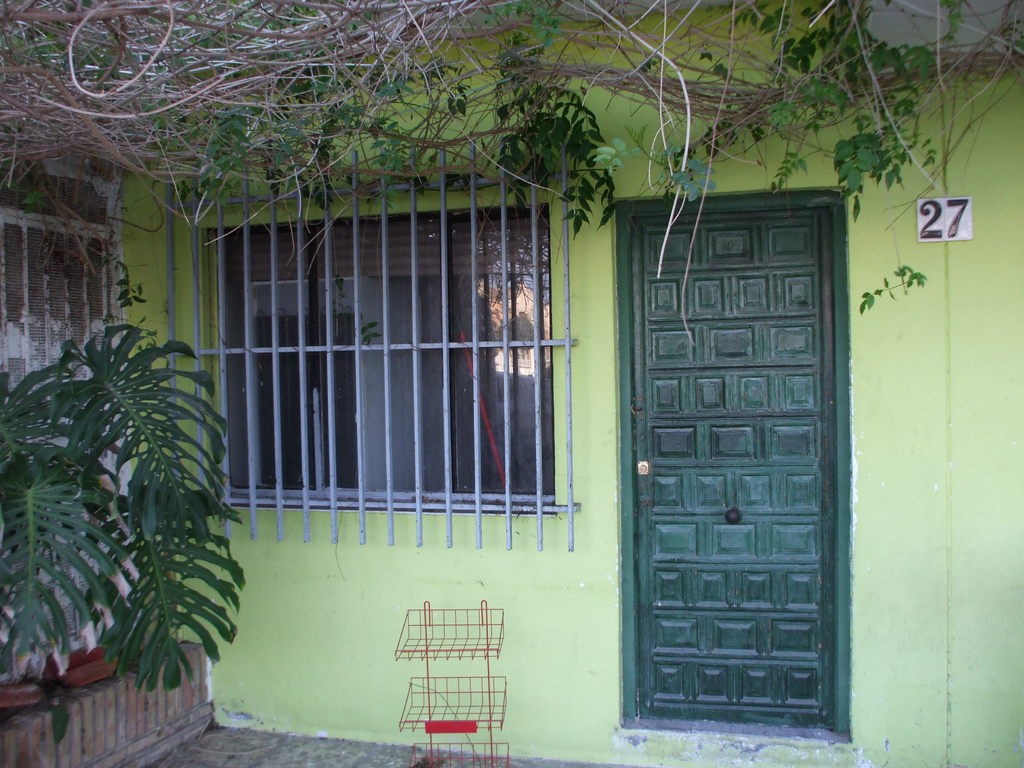door: (646, 224, 825, 709)
handle: (721, 496, 746, 528)
